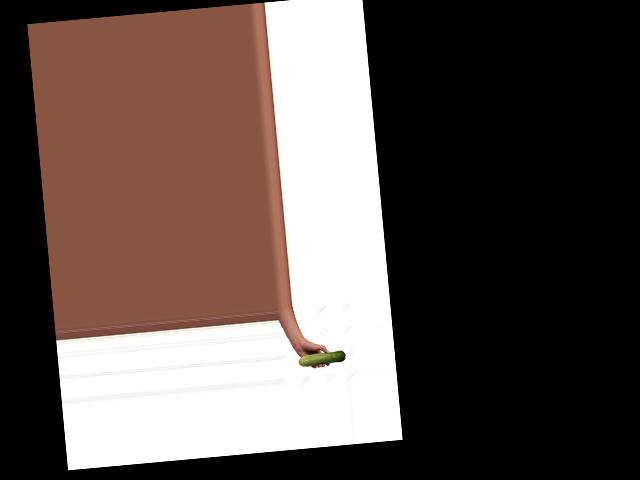cucumber: (297, 349, 346, 366)
